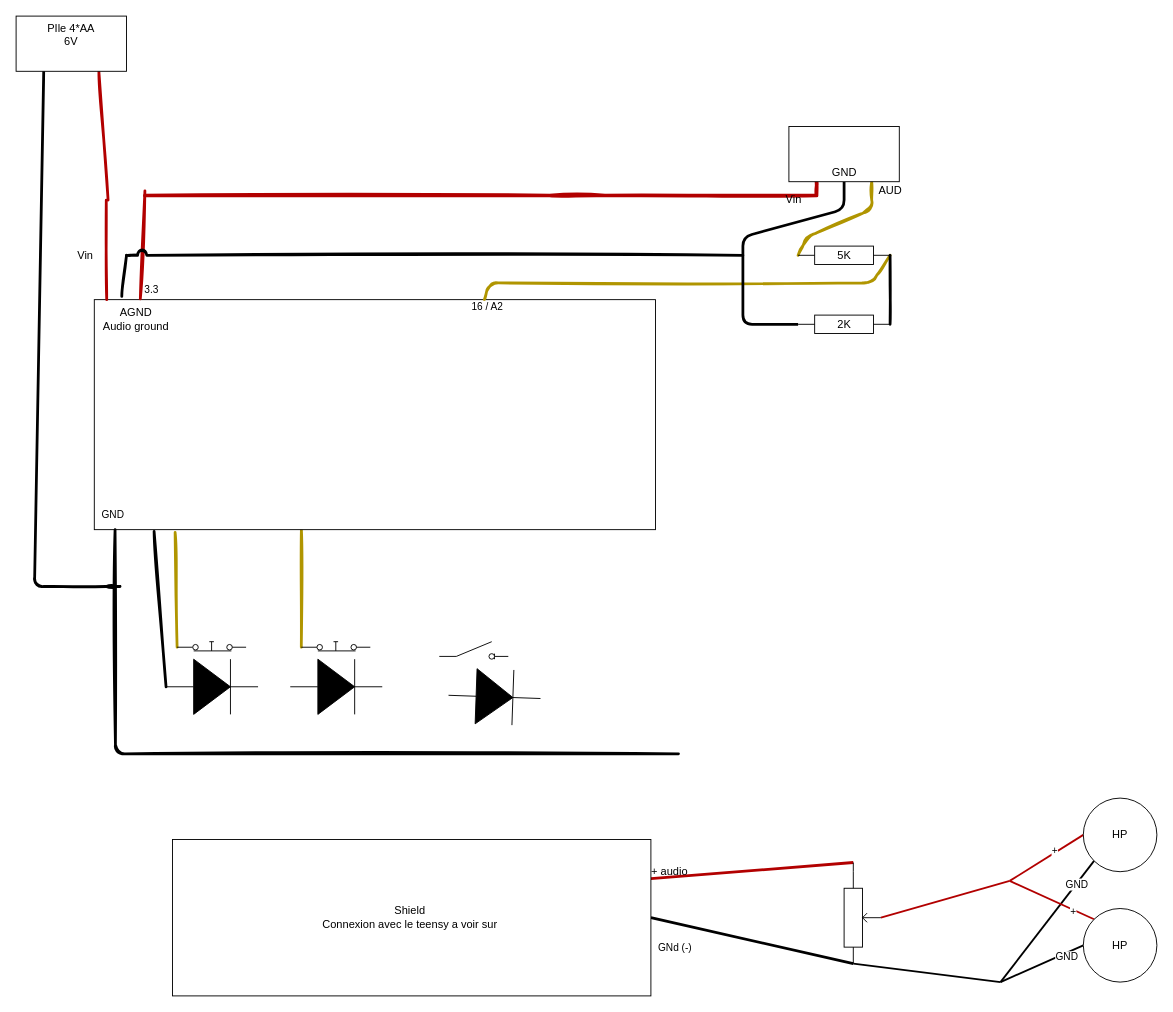
Some shapes in this 1173 by 1012 pixel diagram are drawn without their labels. The shapes that lost their labels are listed below. From the top down, each one's box as (x1, y1, x2, y2) in pixels, then its label:
(788, 126, 899, 182): mic
(93, 299, 656, 530): Teensy 3.2
(843, 871, 881, 964): A10 k Potentiomètre exponentielle (le grand)
